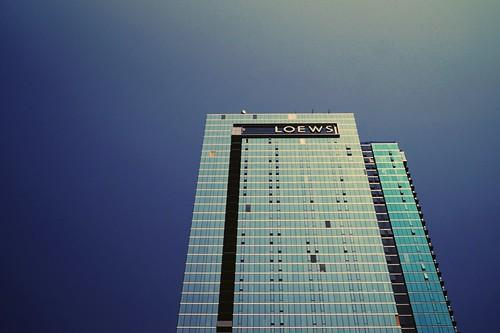building: (169, 106, 462, 333)
